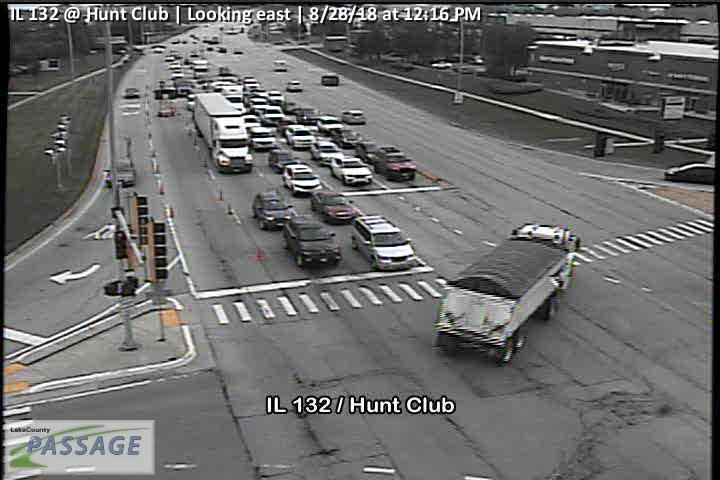SUV: (351, 215, 415, 269)
Sedan: (283, 213, 343, 267), (252, 189, 293, 232), (312, 190, 357, 222), (283, 162, 324, 197), (331, 155, 373, 186), (664, 163, 715, 183), (282, 122, 317, 148), (267, 146, 299, 171), (311, 138, 344, 162), (250, 126, 277, 149), (341, 107, 365, 124)
Truck: (434, 219, 580, 362), (193, 90, 253, 175)
